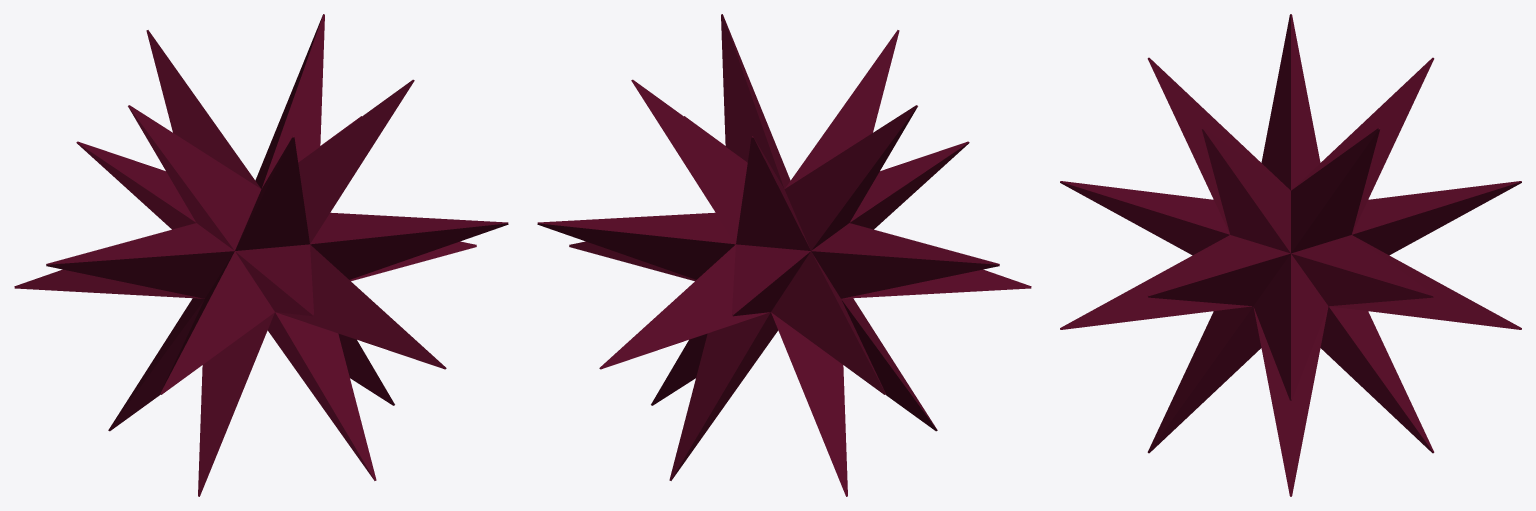
The model's file is urchin.fbx.
3 views of the same model, side by side, from view 1: azimuth 30°, elevation 25°; view 2: azimuth 150°, elevation 25°; view 3: azimuth 270°, elevation 25° (orthographic). The views are drawn at different scales.
Parts seen in each view (by area): view 1: sea urchin; view 2: sea urchin; view 3: sea urchin.
Boxes of the visible parts, box(x1,y1,x2,y2) form: sea urchin: box(14, 14, 508, 496); sea urchin: box(537, 14, 1031, 496); sea urchin: box(1060, 14, 1521, 496).
Bounding box in the file's own units: 62.47 × 50.68 × 59.41.
